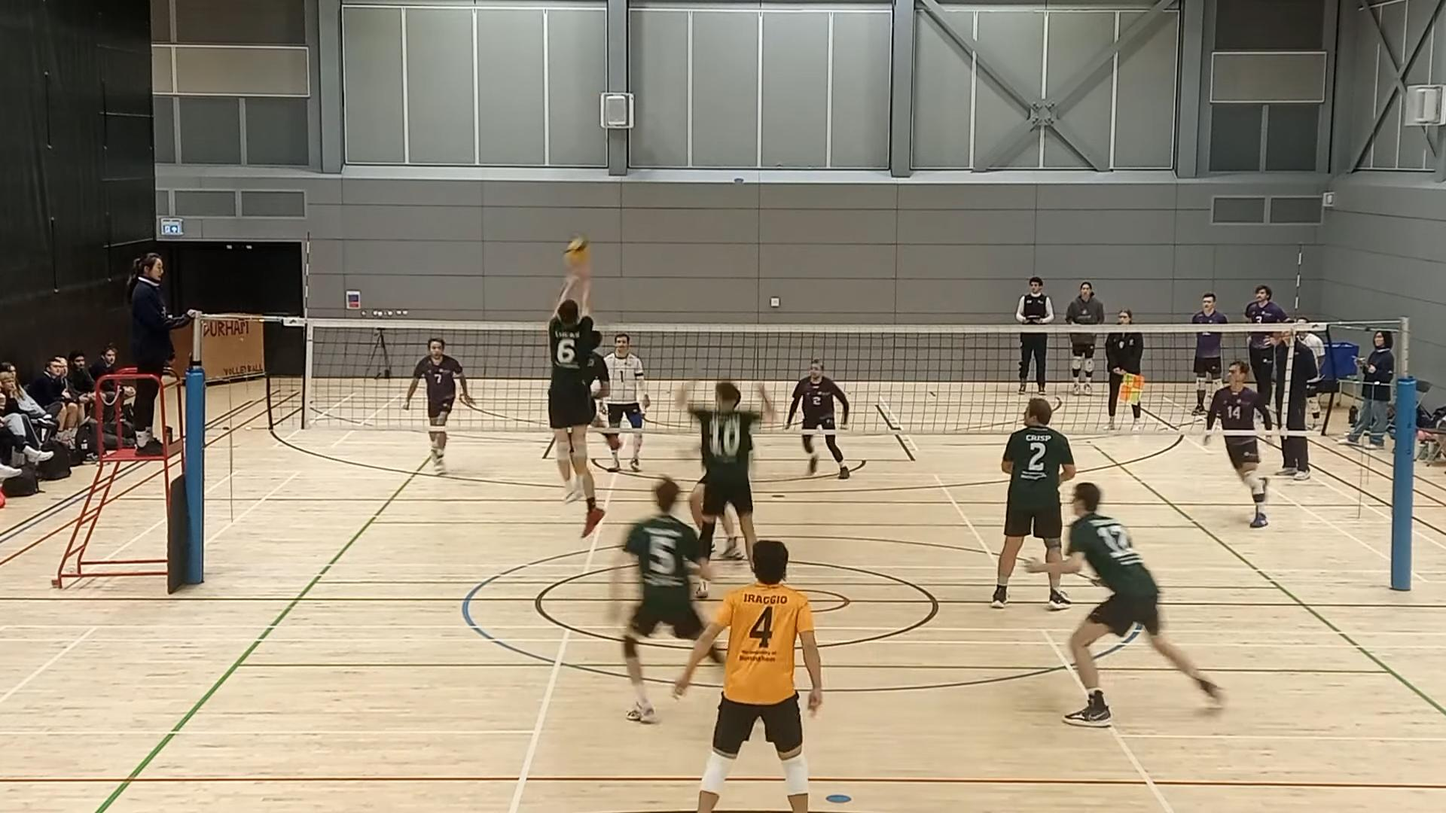muro: (533, 258, 605, 540)
